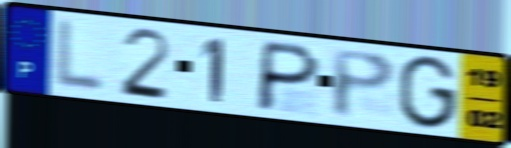1: (200, 36, 225, 104)
2: (119, 26, 172, 102)
G: (396, 53, 460, 132)
L: (51, 16, 108, 96)
P: (252, 38, 324, 114), (329, 47, 399, 122)
